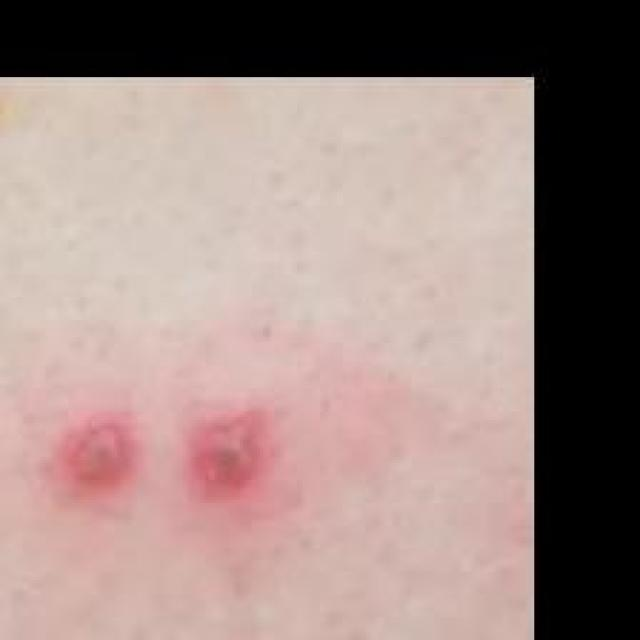monkeypox: (0, 303, 345, 622)
